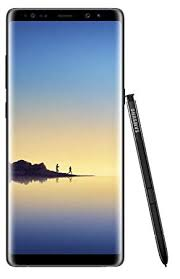samsung: (3, 2, 126, 270)
